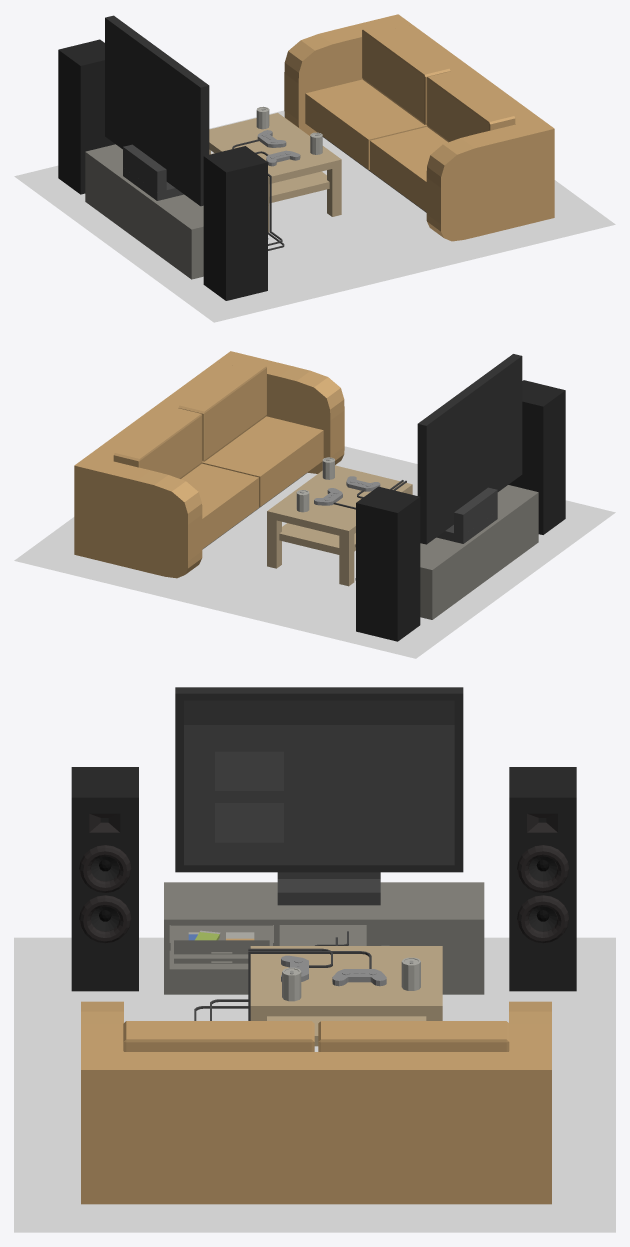
Rendered from LivingRoom.gltf.
3 views of the same model, one above another, from view 1: azimuth 30°, elevation 25°; view 2: azimuth 150°, elevation 25°; view 3: azimuth 270°, elevation 25° (orthographic). The views are drawn at different scales.
Parts seen in each view (by area): view 1: Plane_Plane.001, Cube.001_Cube.002, Cube.008_Cube.019, Cube.011_Cube.025, Cube.002_Cube.003, Cube.024_Cube.040, Cube.009_Cube.024, Cube.006_Cube.016, Cube_Cube.001, Cube.012_Cube.027, Cube.007_Cube.017, Cube.004_Cube.015 (+1 smaller); view 2: Plane_Plane.001, Cube.001_Cube.002, Cube.008_Cube.019, Cube.011_Cube.025, Cube.002_Cube.003, Cube.024_Cube.040, Cube.009_Cube.024, Cube.006_Cube.016, Cube_Cube.001, Cube.012_Cube.027, Cube.004_Cube.015, Cube.007_Cube.017 (+1 smaller); view 3: Plane_Plane.001, Cube_Cube.001, Cube.011_Cube.025, Cube.008_Cube.019, Cube.001_Cube.002, Cube.009_Cube.024, Cube.024_Cube.040, Cube.006_Cube.016, Plane.003_Plane.004, Cube.012_Cube.027, Cube.018_Cube.035, Plane.001_Plane (+8 smaller).
Part boxes in pixels (<box>): Plane_Plane.001: <box>14,110,615,322</box>; Cube.001_Cube.002: <box>284,14,554,241</box>; Cube.008_Cube.019: <box>58,39,268,300</box>; Cube.011_Cube.025: <box>105,15,209,206</box>; Cube.002_Cube.003: <box>305,79,447,211</box>; Cube.024_Cube.040: <box>362,23,515,142</box>; Cube.009_Cube.024: <box>85,144,203,279</box>; Cube.006_Cube.016: <box>209,113,341,183</box>; Cube_Cube.001: <box>396,24,539,124</box>; Cube.012_Cube.027: <box>123,144,183,200</box>; Cube.007_Cube.017: <box>211,153,329,202</box>; Cube.004_Cube.015: <box>209,149,341,232</box>; Plane_Plane.001: <box>14,446,615,658</box>; Cube.001_Cube.002: <box>74,351,344,578</box>; Cube.008_Cube.019: <box>355,380,565,641</box>; Cube.011_Cube.025: <box>417,354,522,544</box>; Cube.002_Cube.003: <box>181,416,323,548</box>; Cube.024_Cube.040: <box>113,360,266,478</box>; Cube.009_Cube.024: <box>420,485,538,619</box>; Cube.006_Cube.016: <box>267,465,412,535</box>; Cube_Cube.001: <box>89,361,233,461</box>; Cube.012_Cube.027: <box>436,487,497,543</box>; Cube.004_Cube.015: <box>267,489,412,586</box>; Cube.007_Cube.017: <box>279,523,355,554</box>; Plane_Plane.001: <box>14,937,615,1232</box>; Cube_Cube.001: <box>124,1052,508,1204</box>; Cube.011_Cube.025: <box>175,687,463,872</box>; Cube.008_Cube.019: <box>71,767,576,991</box>; Cube.001_Cube.002: <box>81,1001,551,1204</box>; Cube.009_Cube.024: <box>164,882,484,994</box>; Cube.024_Cube.040: <box>123,1021,509,1051</box>; Cube.006_Cube.016: <box>250,946,442,1016</box>; Plane.003_Plane.004: <box>184,700,454,724</box>; Cube.012_Cube.027: <box>277,872,380,905</box>; Cube.018_Cube.035: <box>170,925,272,958</box>; Plane.001_Plane: <box>215,751,283,790</box>.
Bounding box in the file's own units: 5.3 × 2.35 × 4.57.
